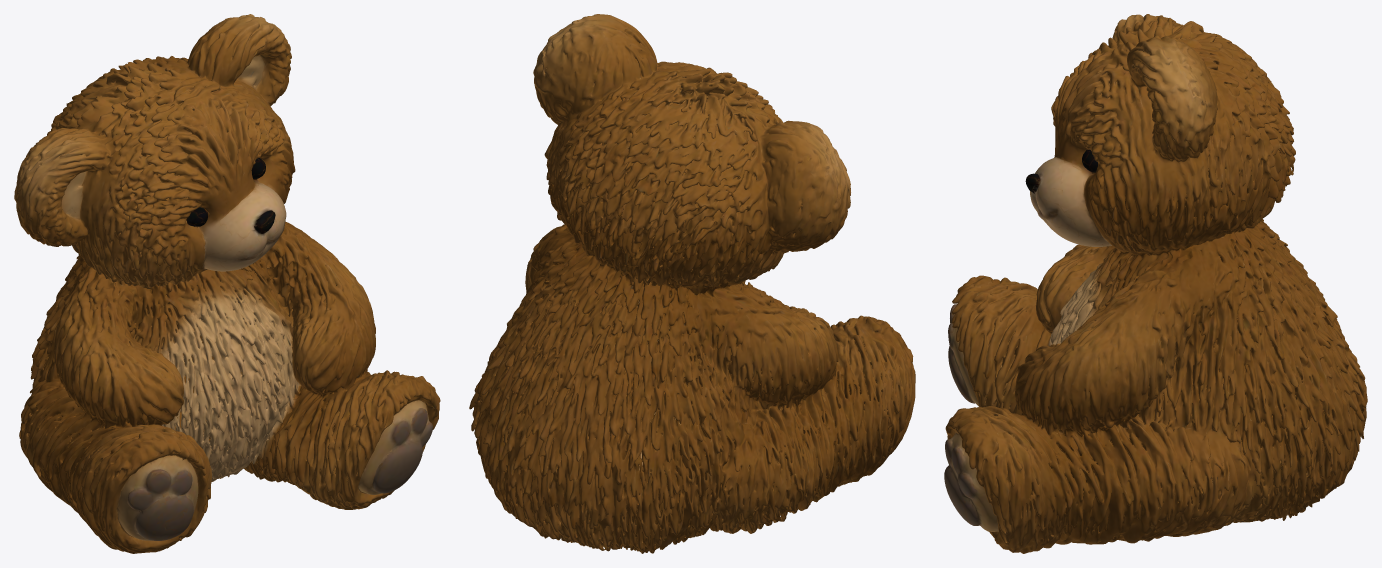
Rendered from generation_teddy_0.glb.
3 views of the same model, side by side, from view 1: azimuth 30°, elevation 25°; view 2: azimuth 150°, elevation 25°; view 3: azimuth 270°, elevation 25° (orthographic). The views are drawn at different scales.
Visible parts, largest first — view 1: geometry_0; view 2: geometry_0; view 3: geometry_0.
Part boxes in pixels (left/top/right/bottom): geometry_0: left=14, top=14, right=440, bottom=553; geometry_0: left=469, top=14, right=915, bottom=553; geometry_0: left=944, top=14, right=1367, bottom=553.
Size of the model in its own units: 0.8079 by 0.9968 by 0.8024.
Materials: 1 (1 with a texture image).
